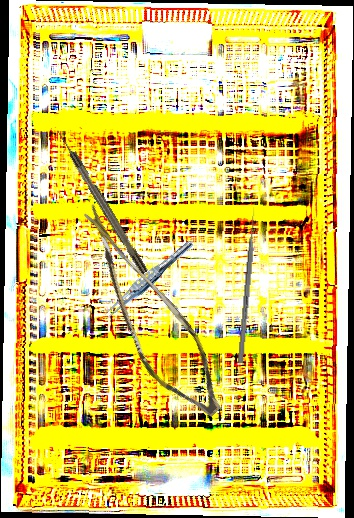Hook Surgical: (54, 127, 149, 276)
Micro Scissor: (38, 203, 255, 428)
Pusher: (237, 206, 258, 364)
Tissue Forceps: (100, 235, 197, 324)
